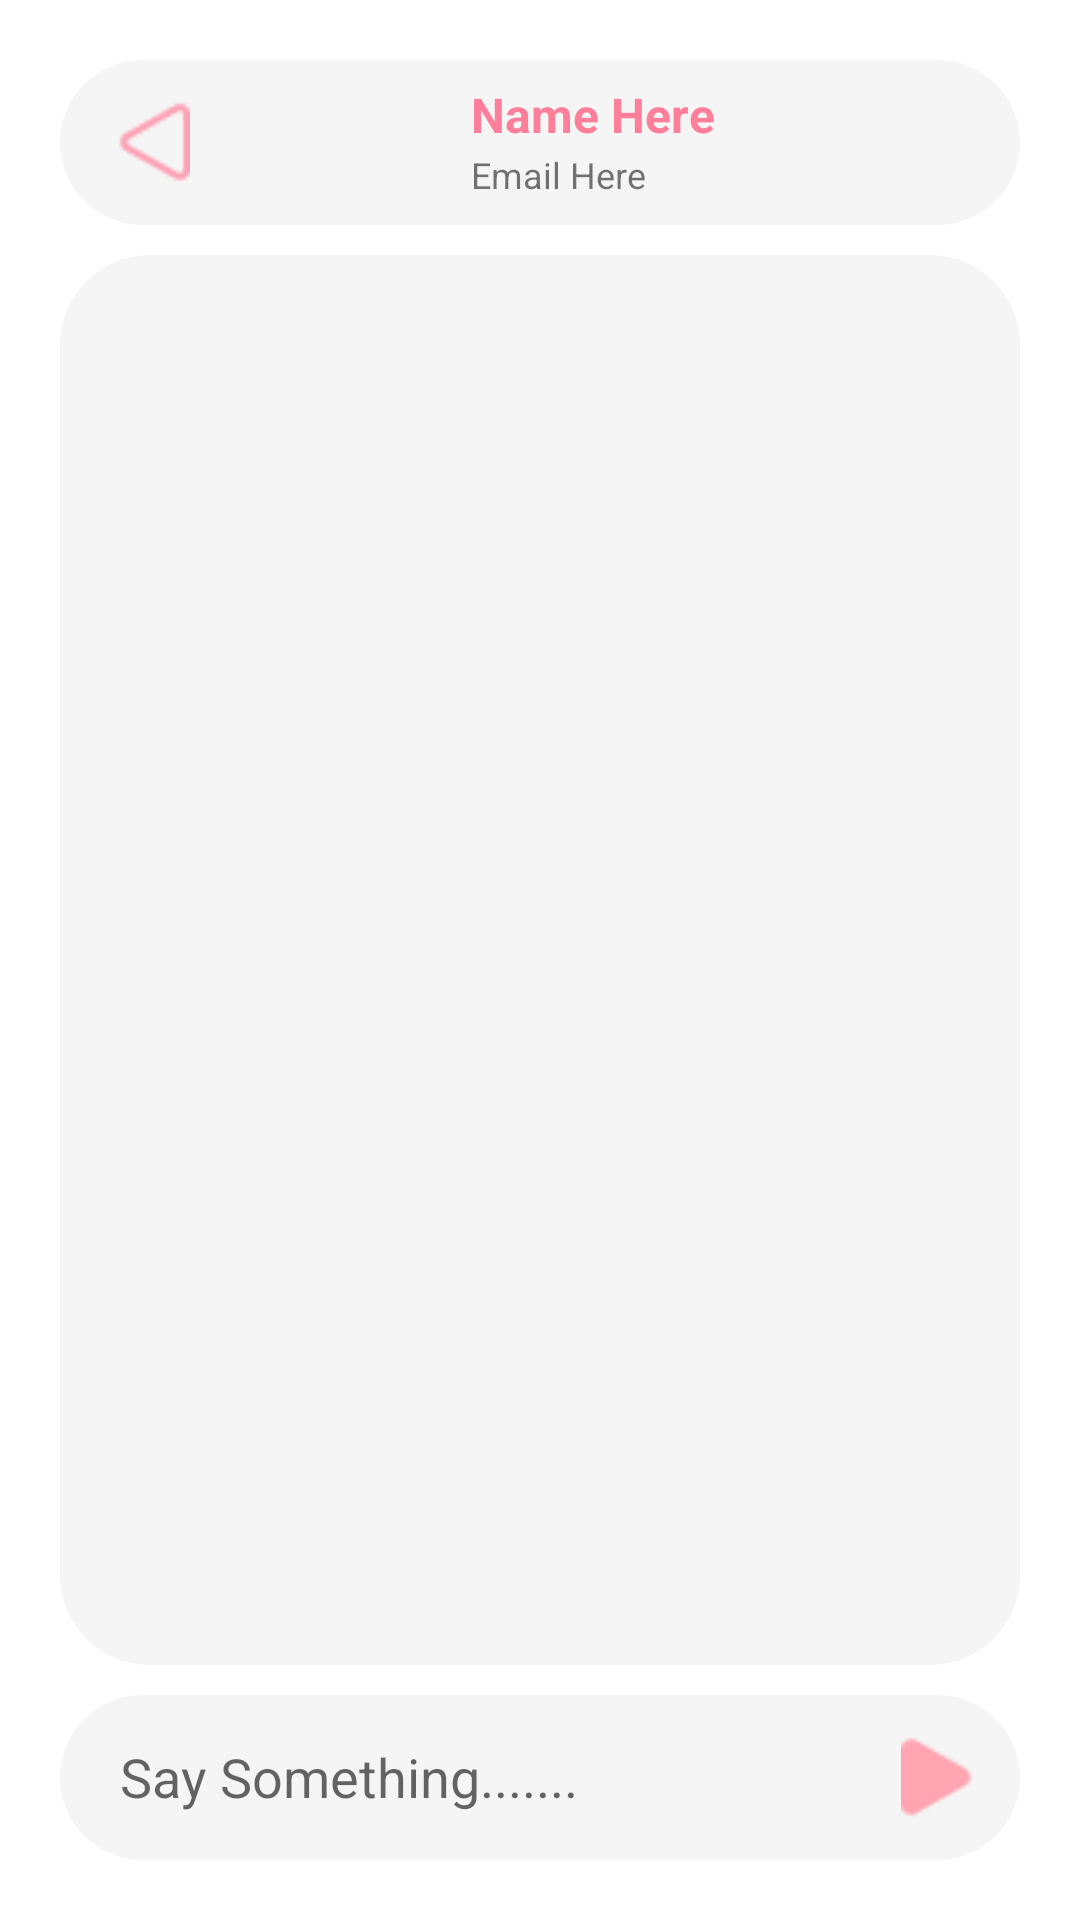

Point at icon controls on the screen. Image size 1080 × 1920, points as (x,y).
back: (155,142)
send: (936,1777)
